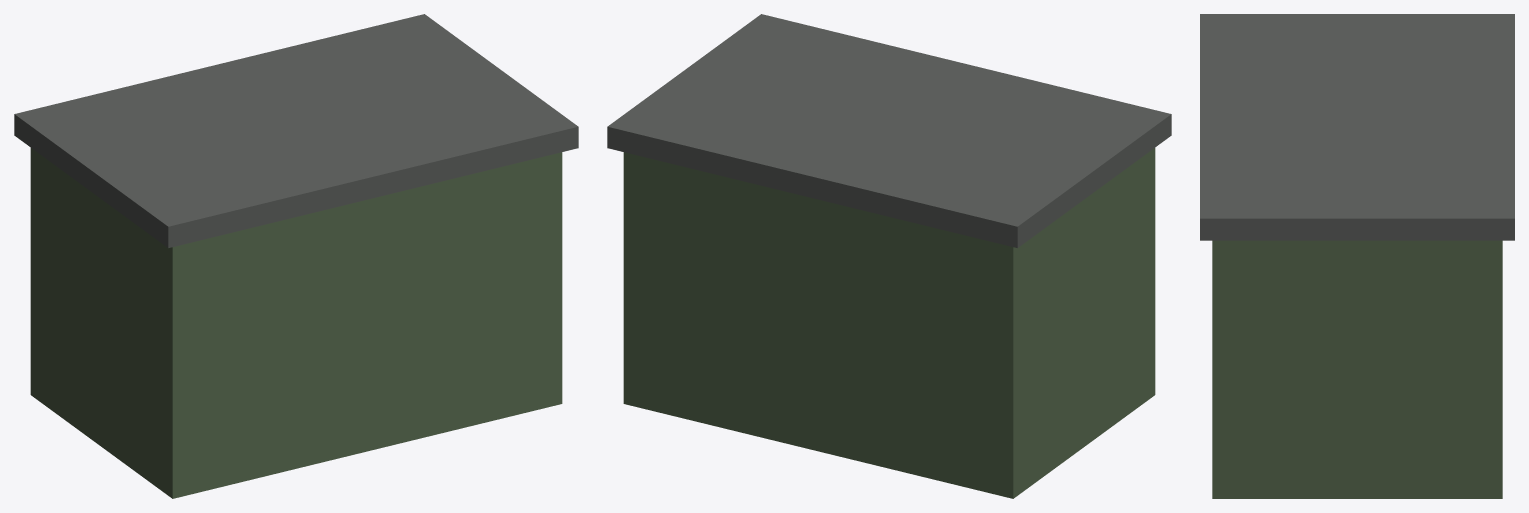
Rendered from p_dumpster.glb.
The picture shows the model from 3 angles, left to right: view 1: azimuth 30°, elevation 25°; view 2: azimuth 150°, elevation 25°; view 3: azimuth 270°, elevation 25°; orthographic projection. The views are drawn at different scales.
Parts seen in each view (by area): view 1: body; view 2: body; view 3: body.
Part boxes in pixels (box(x1,y1,x2,y2)): body: box(14, 14, 578, 498); body: box(607, 14, 1171, 498); body: box(1200, 14, 1514, 498).
Bounding box in the file's own units: 2 × 1.35 × 1.3.
